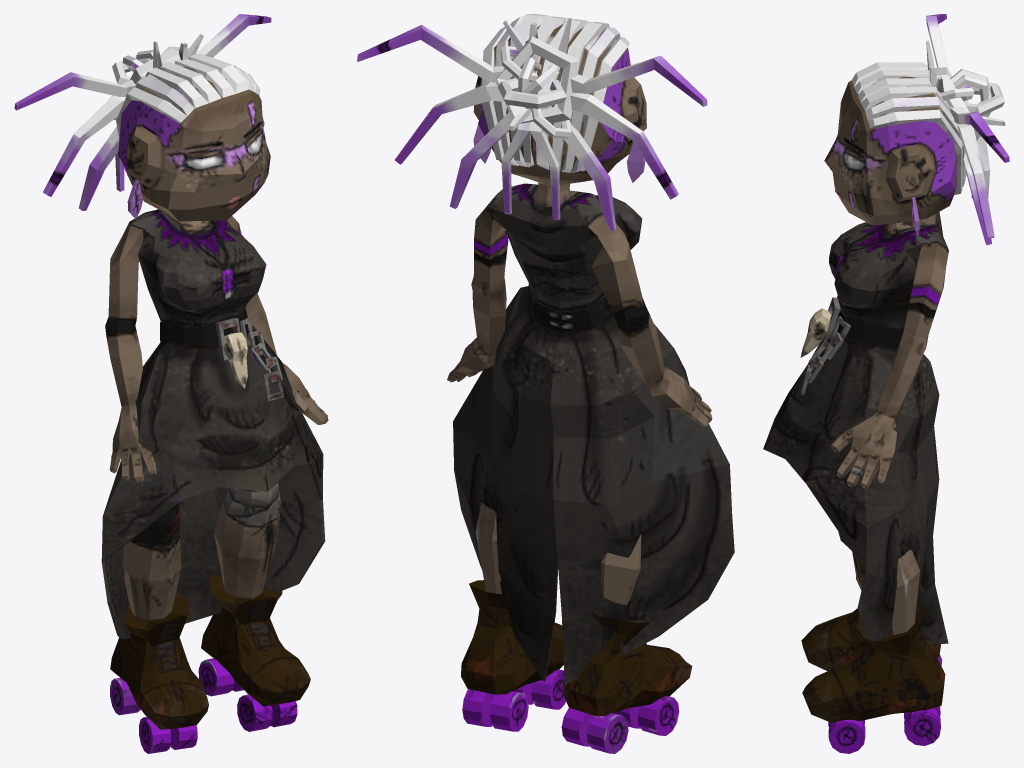
The model's file is bruja_000027.obj.
The picture shows the model from 3 angles, left to right: view 1: azimuth 30°, elevation 25°; view 2: azimuth 150°, elevation 25°; view 3: azimuth 270°, elevation 25°; orthographic projection. The views are drawn at different scales.
Parts seen in each view (by area): view 1: Bruja_Plane.001; view 2: Bruja_Plane.001; view 3: Bruja_Plane.001.
Part boxes in pixels (left/top/right/bottom): Bruja_Plane.001: left=14, top=14, right=328, bottom=753; Bruja_Plane.001: left=357, top=14, right=734, bottom=753; Bruja_Plane.001: left=763, top=14, right=1009, bottom=753.
Size of the model in its own units: 7.34 by 16.46 by 5.5.
